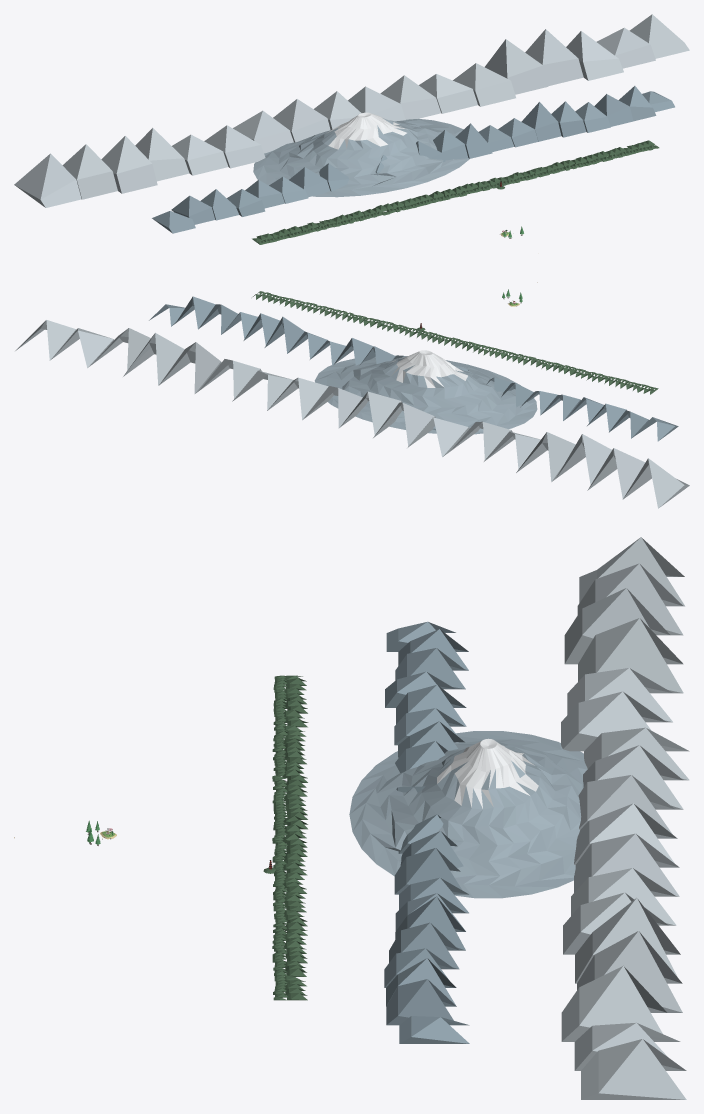
The model's file is title.glb.
The picture shows the model from 3 angles, top to bottom: view 1: azimuth 30°, elevation 25°; view 2: azimuth 150°, elevation 25°; view 3: azimuth 270°, elevation 25°; orthographic projection. The views are drawn at different scales.
Parts seen in each view (by area): view 1: mtn_far, mtn_mid, mtn_fuji_mtn_fuji, shore_shore, mtn_fuji_snow; view 2: mtn_far, mtn_fuji_mtn_fuji, mtn_mid, shore_shore, mtn_fuji_snow; view 3: mtn_far, mtn_fuji_mtn_fuji, mtn_mid, shore_shore, mtn_fuji_snow.
Part boxes in pixels (x1,y1,x2,y2): mtn_far: (14,14,689,207); mtn_mid: (152,86,674,233); mtn_fuji_mtn_fuji: (253,118,469,197); shore_shore: (252,140,659,244); mtn_fuji_snow: (326,112,407,149); mtn_far: (15,320,689,508); mtn_fuji_mtn_fuji: (314,355,537,434); mtn_mid: (149,296,678,441); shore_shore: (253,291,658,394); mtn_fuji_snow: (391,350,467,387); mtn_far: (561,537,689,1099); mtn_fuji_mtn_fuji: (349,731,587,898); mtn_mid: (384,621,469,1043); shore_shore: (263,675,308,1000); mtn_fuji_snow: (437,738,538,808).
Bounding box in the file's own units: 840 × 53 × 459.
